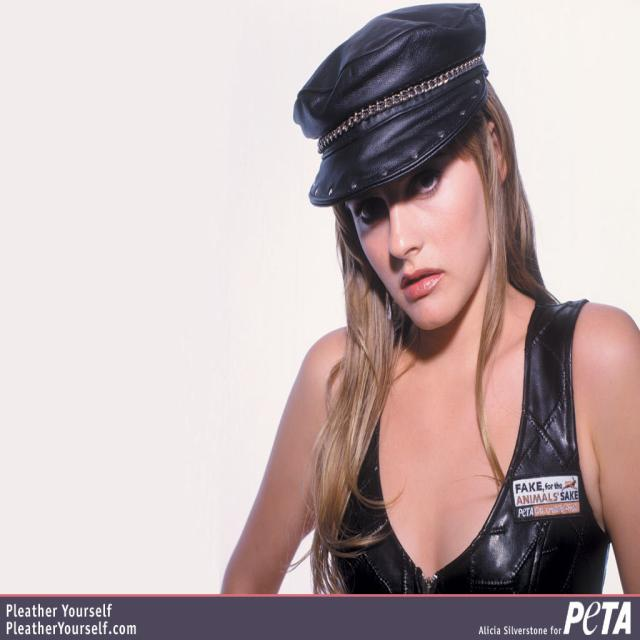Hat: (291, 0, 489, 209)
